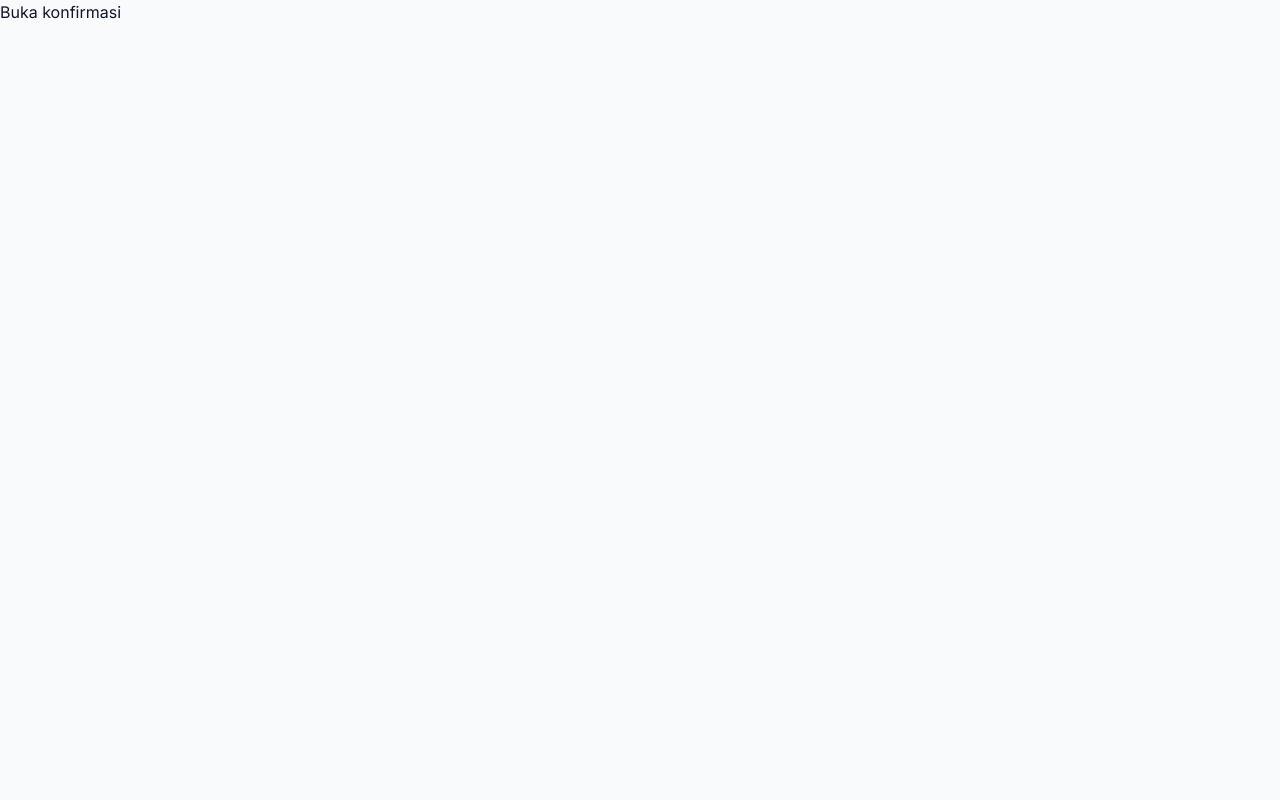
Test: Dialog › opens from its trigger and moves focus into the dialog
Click the button "Buka konfirmasi".
click(61, 12)  # box [0, 0, 121, 24]
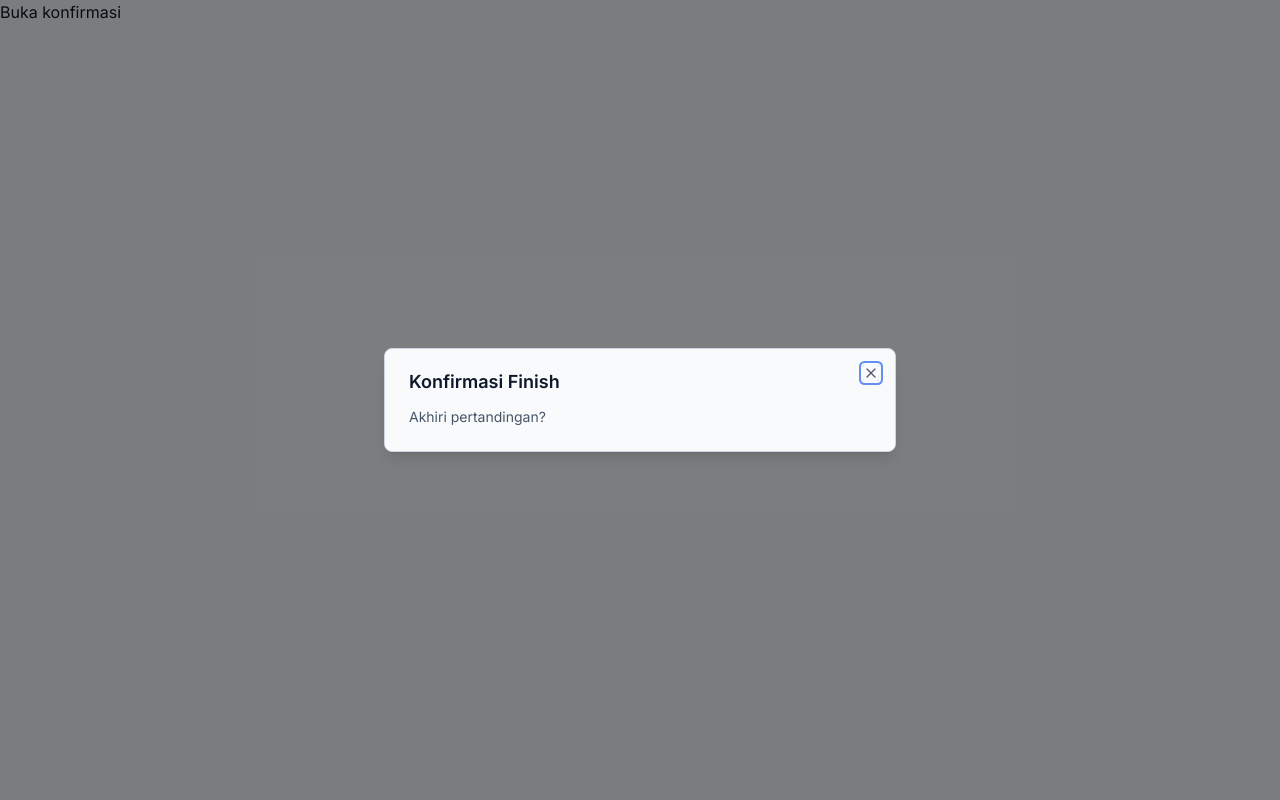
Expected: the dialog is shown, [384, 348, 896, 452]
Expected: the heading "Konfirmasi Finish" is shown, [409, 371, 560, 392]
